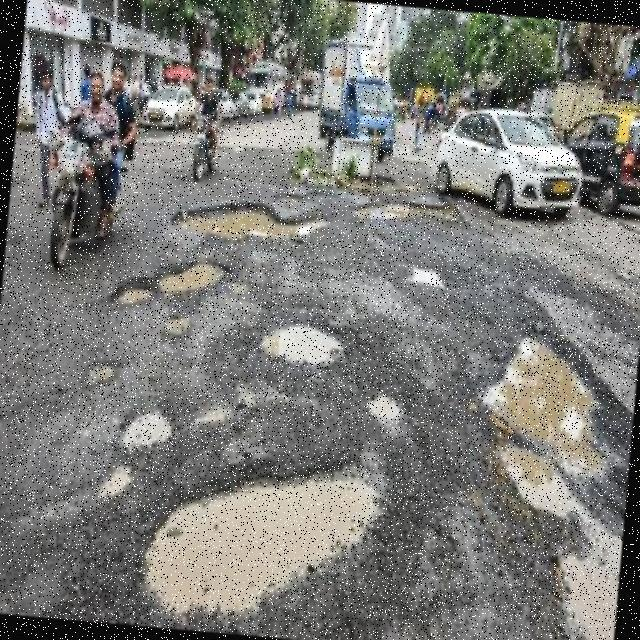Pothole: (145, 480, 375, 611), (500, 445, 622, 640), (483, 339, 602, 470), (174, 201, 320, 240), (109, 264, 227, 306), (260, 326, 344, 366), (121, 413, 171, 447)
